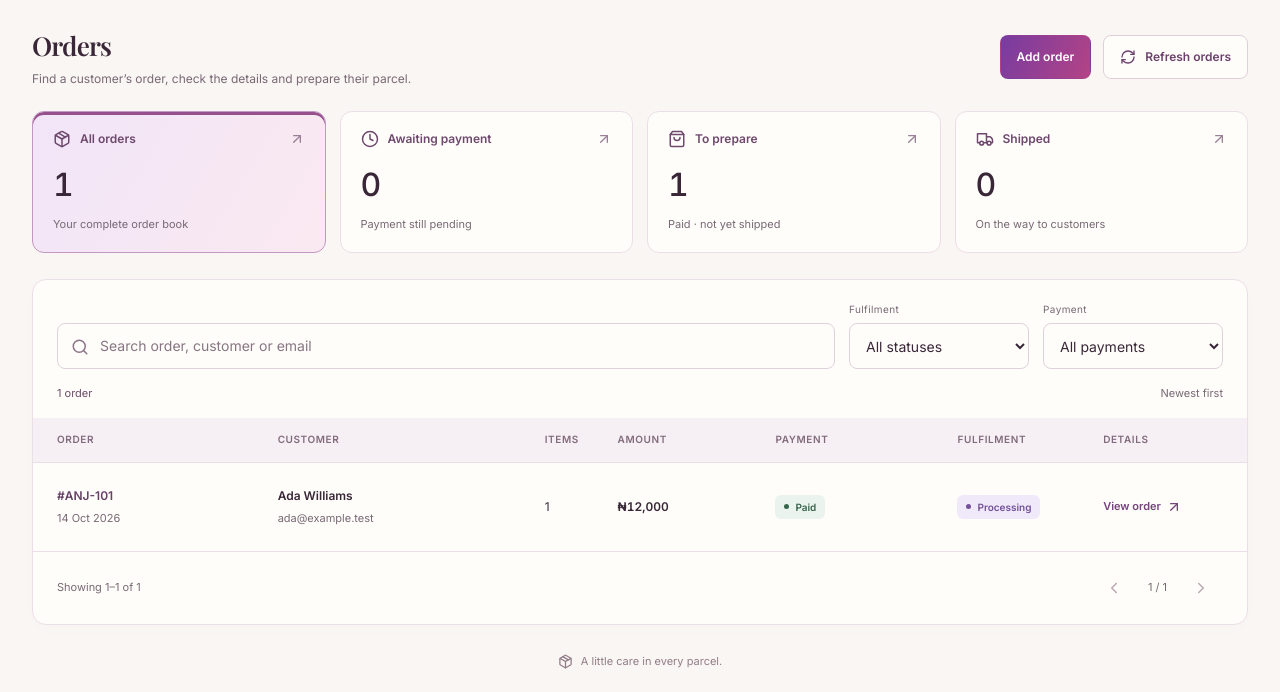
Test: cancellation requires confirmation and keeps the order when declined
(page scrolled)
Step 1. Click the button with aria-label "View order ANJ-101" → [1142, 507], box [1103,485,1182,529]
(page scrolled)
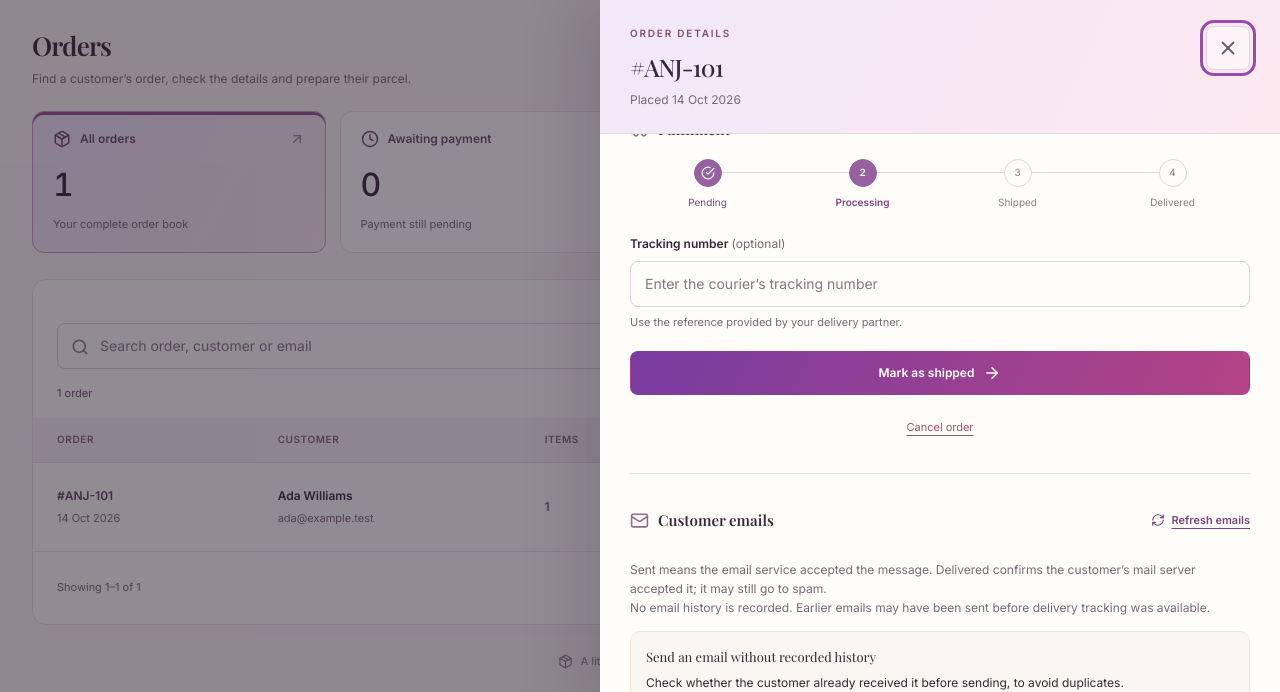
Step 2. Click the button "Cancel order" → [940, 427], box [906,405,974,449]
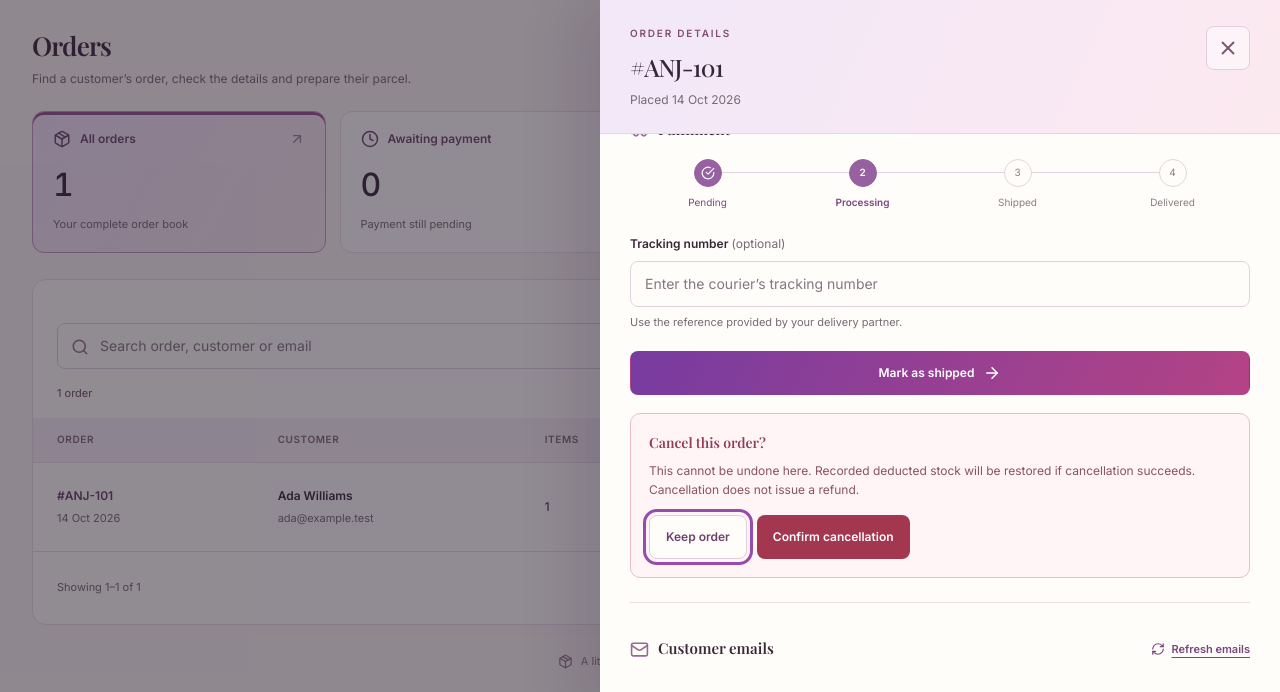
expect the text "Recorded deducted stock will be restored" is shown: met, box [815,463,1195,478]
expect the text "Cancellation does not issue a refund" is shown: met, box [649,482,859,496]
Step 3. Click the button "Keep order" → [698, 537], box [649,515,747,559]
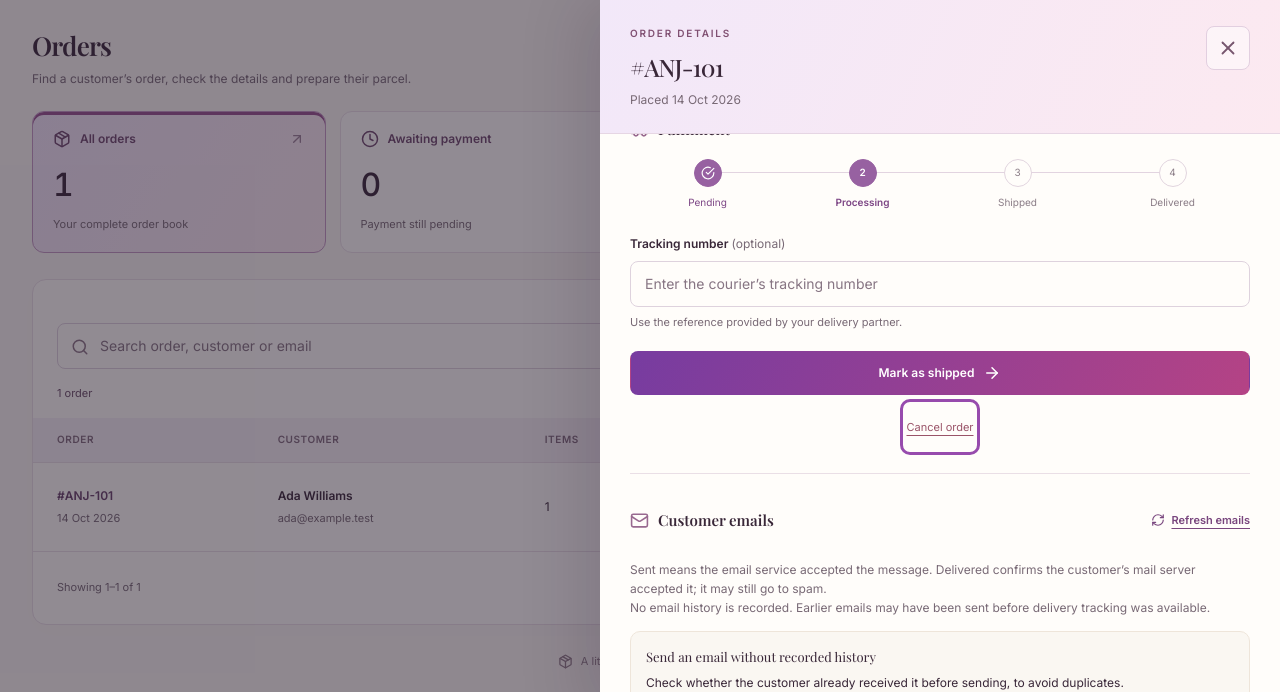
expect the button "Confirm cancellation" is gone: met
Step 4. Click the button "Cancel order" → [940, 427], box [906,405,974,449]
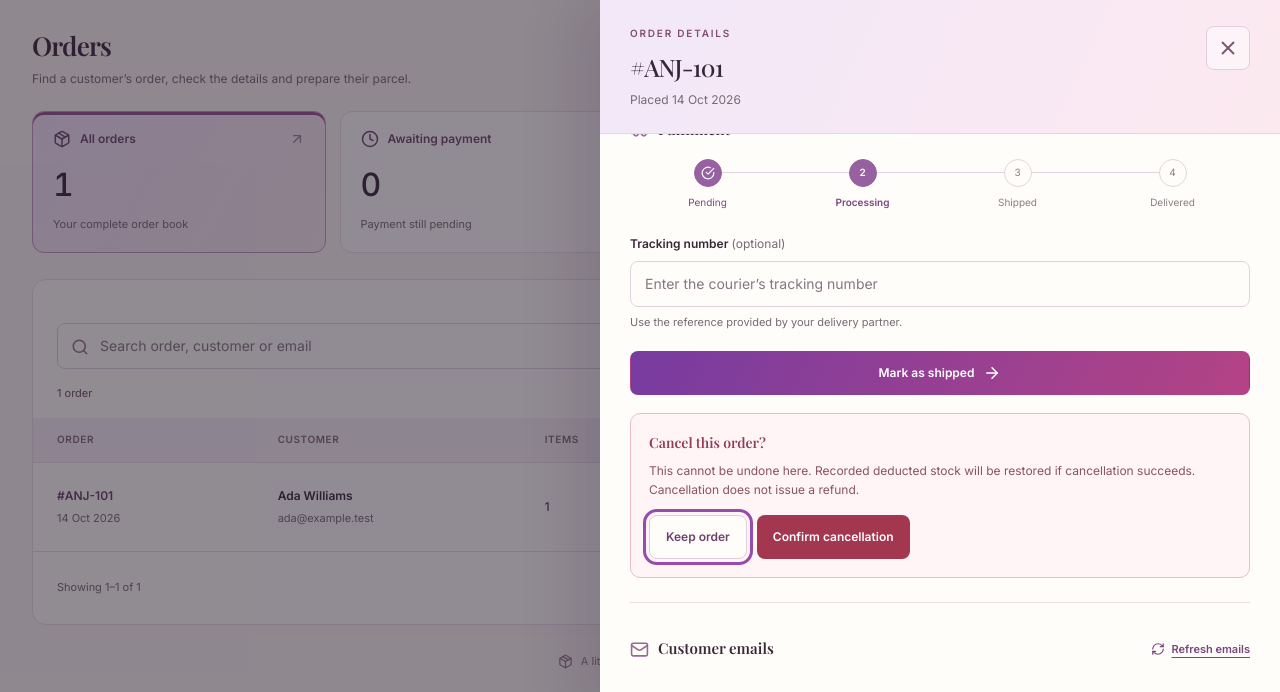
Step 5. Click the button "Confirm cancellation" → [833, 537], box [757,515,910,559]
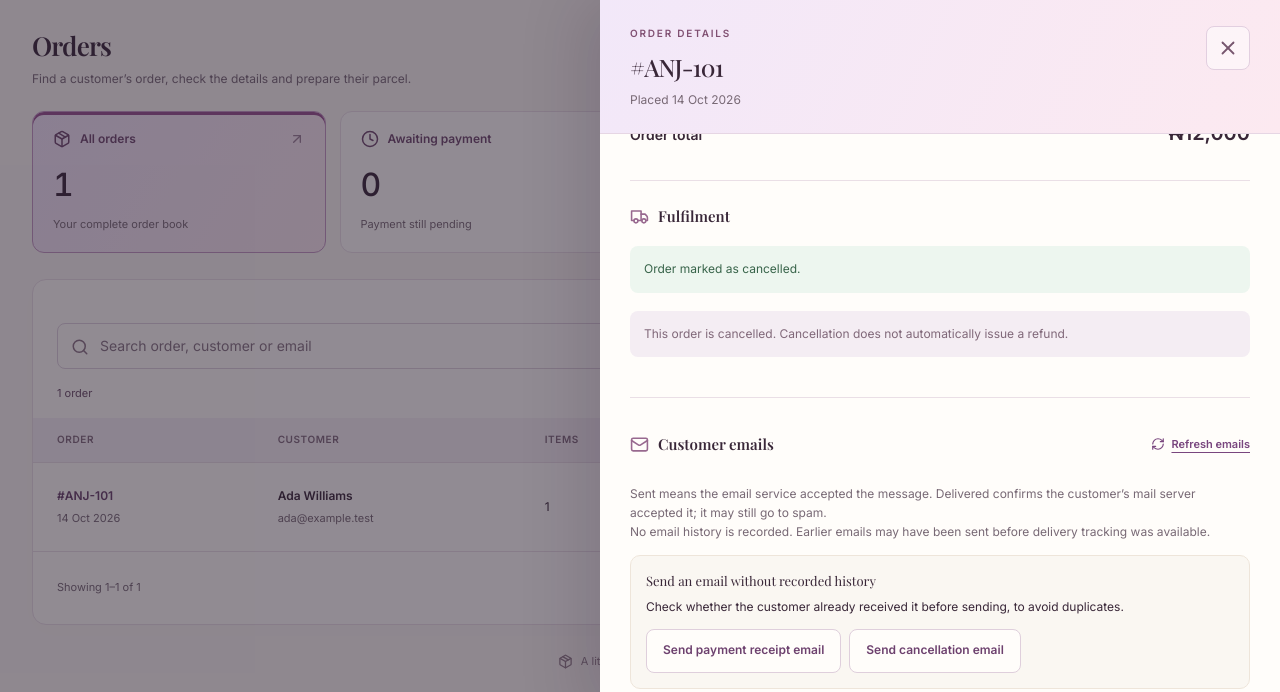
expect the text "Order marked as cancelled." is shown: met, box [630,246,1250,293]
expect the button "Mark as shipped" is gone: met
